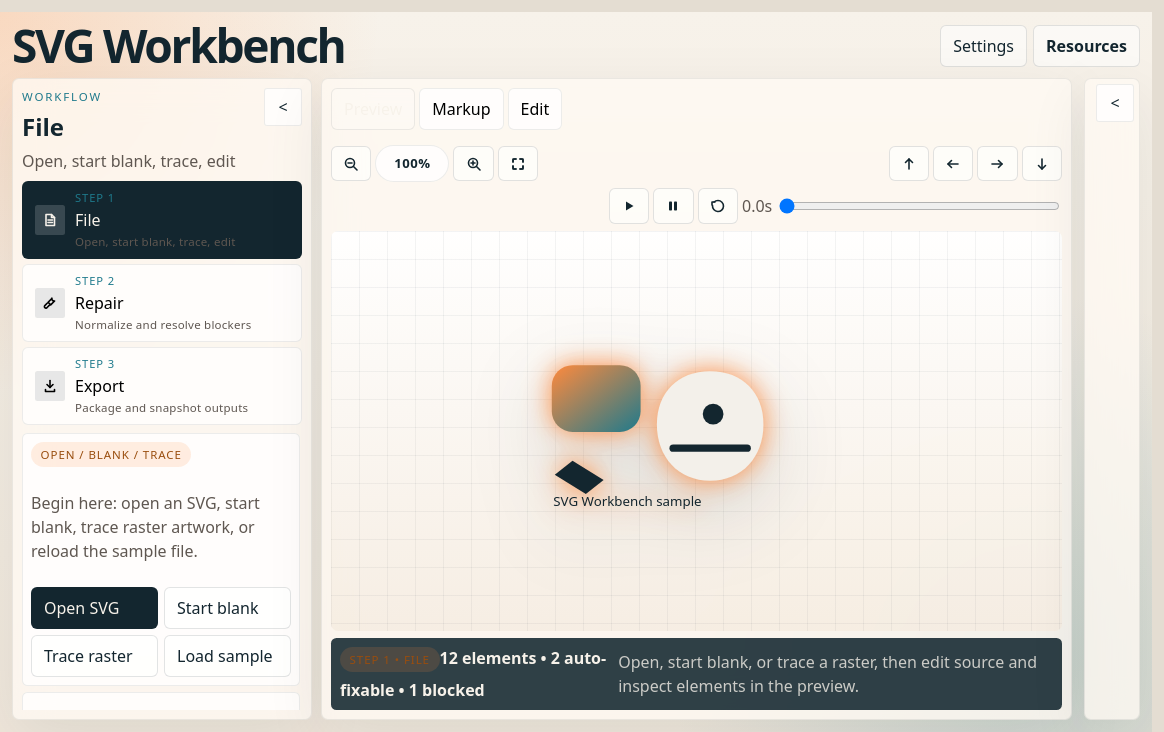
Test: App › switches the inspection area to the clicked preview element
Press the mouse on the panel named "SVG preview area" at (696, 431), box left=331, top=231, right=1062, bottom=631
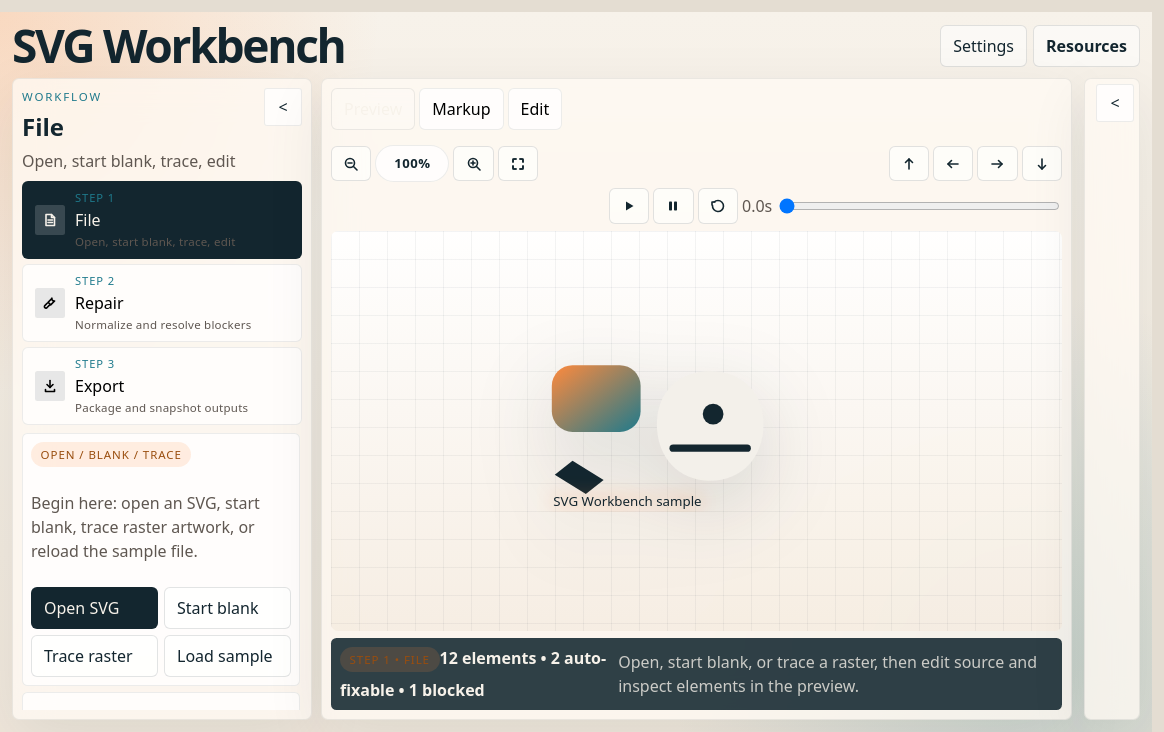
Click the button named "inspection panel" at (1115, 103), box left=1096, top=84, right=1134, bottom=122
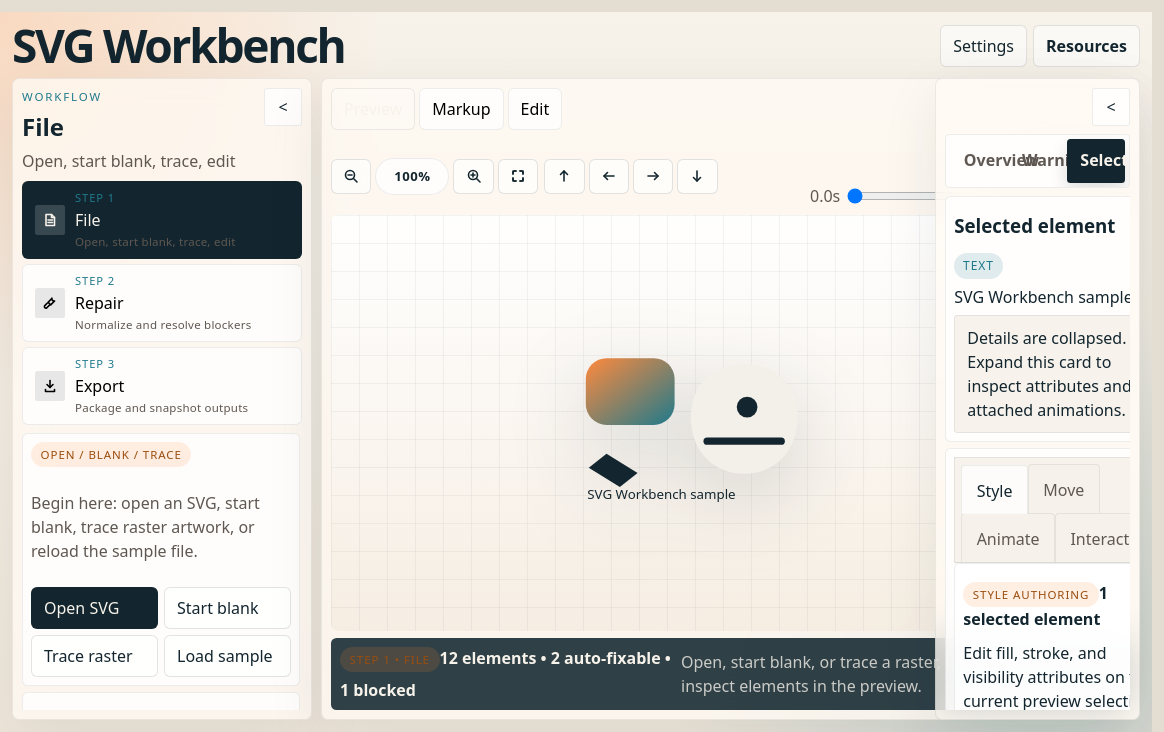
Expected: the heading "Selected element" is shown, left=954, top=212, right=1116, bottom=240
Expected: the text "text" is shown, left=954, top=253, right=1003, bottom=279
Expected: the text "SVG Workbench sample" is shown, left=954, top=286, right=1130, bottom=308
